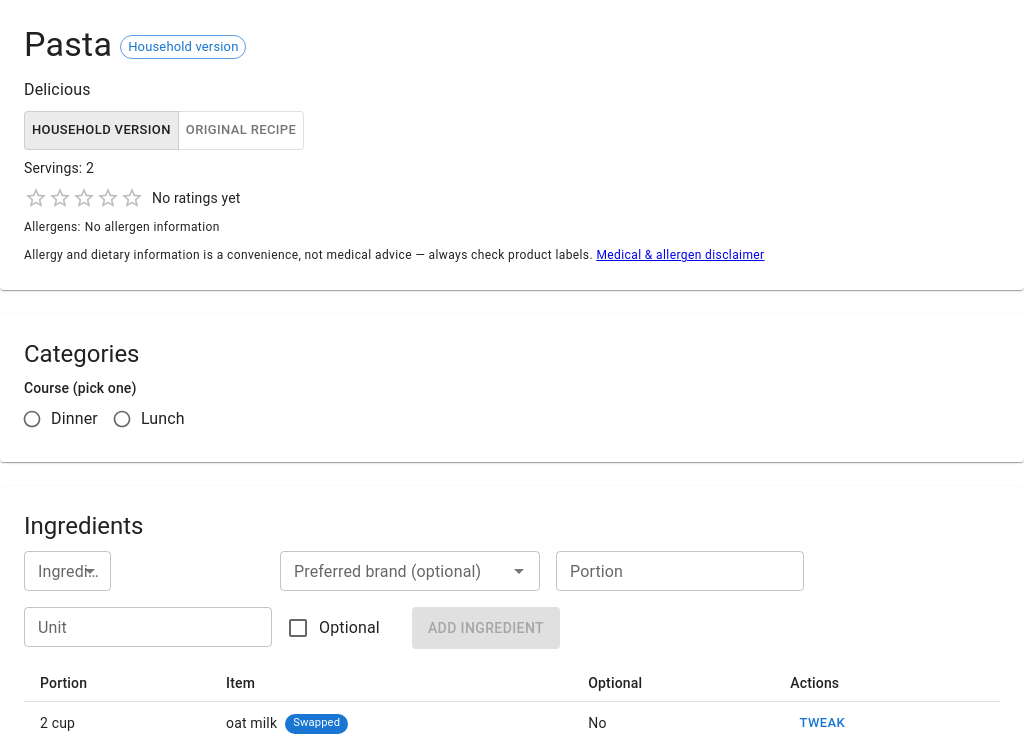
Test: recipe detail — cache regressions › updates the categories chip after a category pick (view-keyed cache)
The image size is (1024, 740).
Check: the heading "Pasta" is shown, box [24,24,112,66]
Click the 6th radio button labelled "Dinner": [60, 419] box [22,409,98,429]
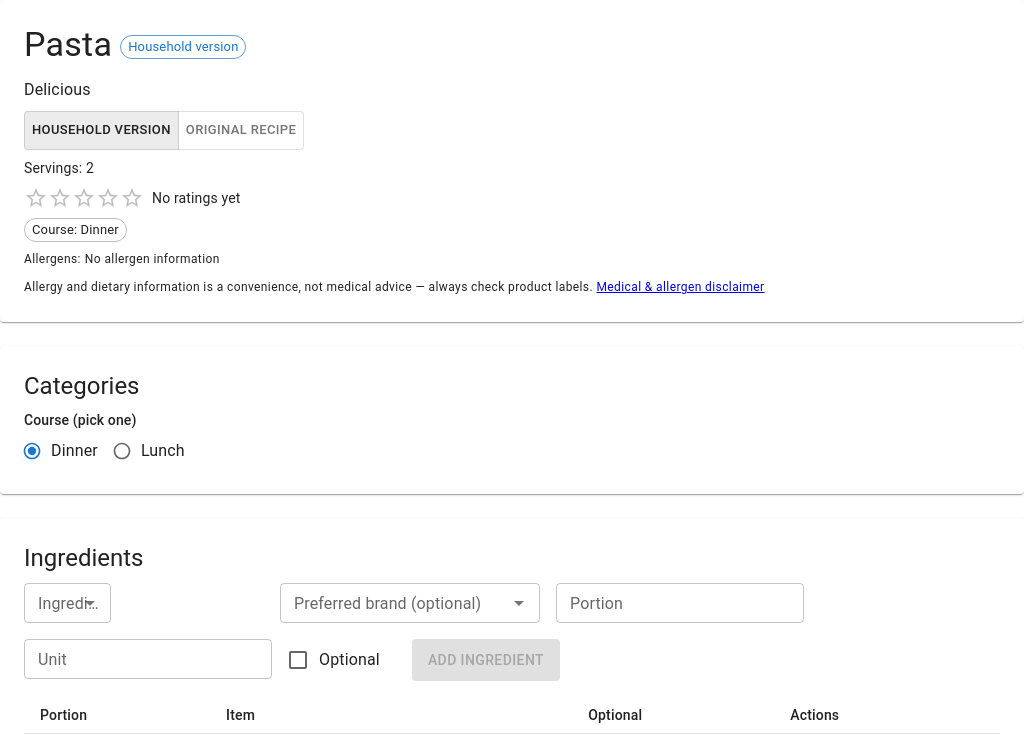
Check: the text "Course: Dinner" is shown, box [25,220,126,240]
